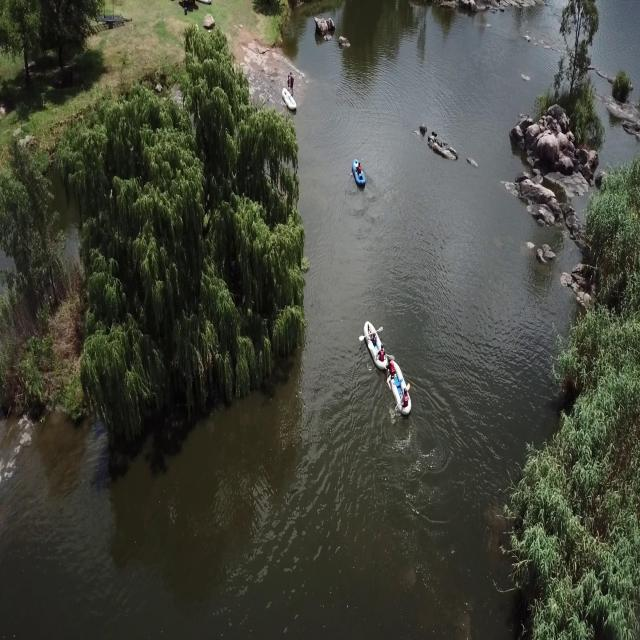kayak: (359, 313, 388, 370), (388, 358, 412, 418), (349, 152, 367, 188)
